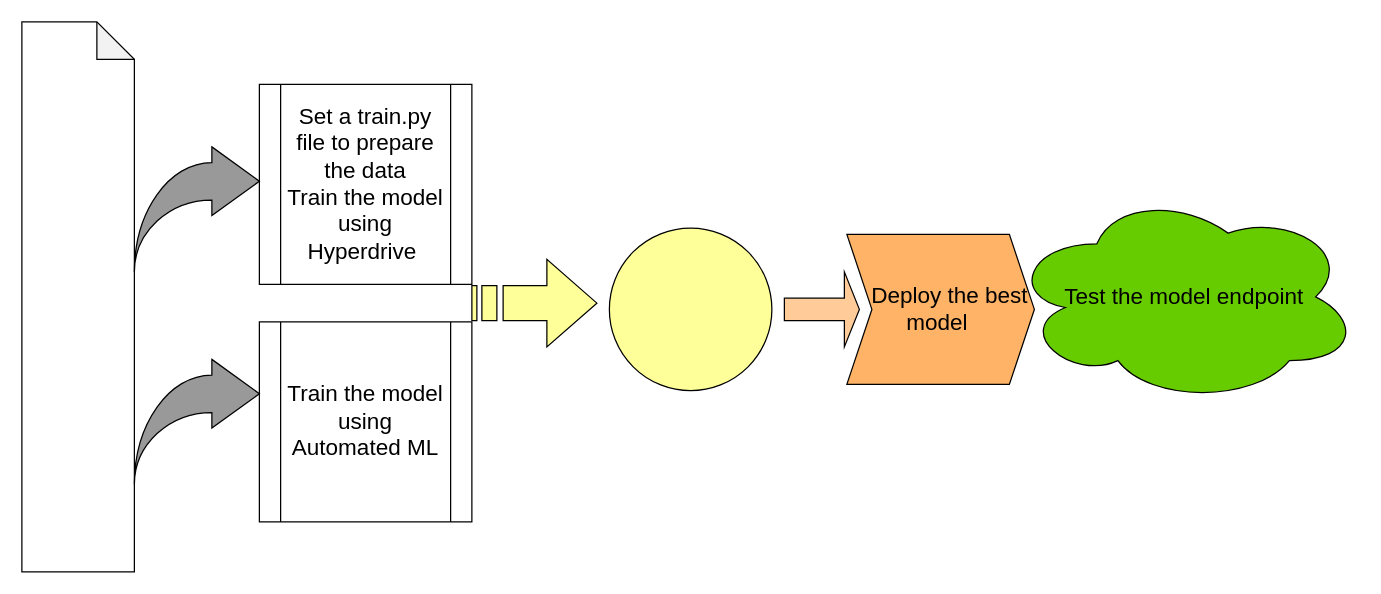
This 1381x594 diagram has some shape labels left out. The shapes that lost their labels are listed below. From the top down, each one's centre as x and y in pixels, then its label:
At (x=77, y=296): "Dataset imported to the workspace".
At (x=690, y=309): "Compare the model's performance".
